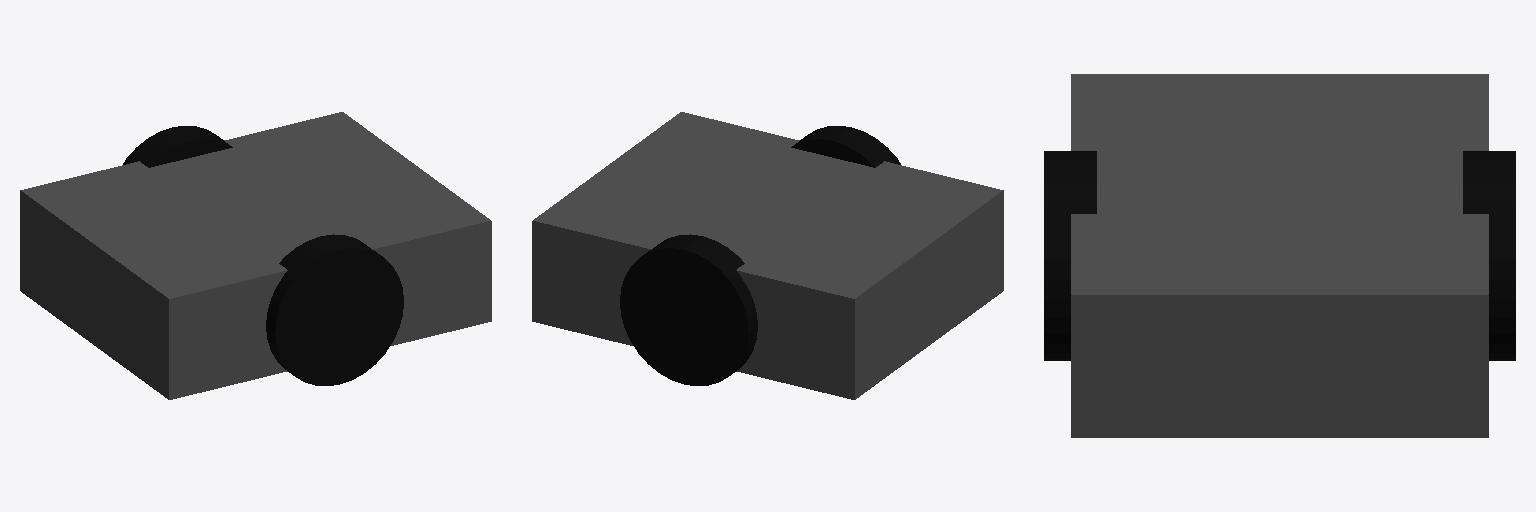
robot.urdf — test_robot:
<?xml version="1.0"?>
<!-- Starter URDF outline for a simple differential-drive robot.
		 Replace the example dimensions and inertial values with measured values. -->
<robot name="test_robot">
	<!-- Chassis -->
	<link name="base_link">
		<inertial>
			<origin xyz="0 0 0.10" rpy="0 0 0"/>
			<mass value="10.0"/>
			<inertia ixx="0.20" ixy="0" ixz="0" iyy="0.30" iyz="0" izz="0.40"/>
		</inertial>
		<visual>
			<origin xyz="0 0 0.10" rpy="0 0 0"/>
			<geometry><box size="0.50 0.40 0.15"/></geometry>
			<material name="chassis"><color rgba="0.35 0.35 0.35 1"/></material>
		</visual>
		<collision>
			<origin xyz="0 0 0.10" rpy="0 0 0"/>
			<geometry><box size="0.50 0.40 0.15"/></geometry>
		</collision>
	</link>

	<!-- Left drive wheel -->
	<link name="left_wheel">
		<inertial>
			<mass value="1.0"/>
			<inertia ixx="0.006" ixy="0" ixz="0" iyy="0.003" iyz="0" izz="0.006"/>
		</inertial>
		<visual>
			<origin xyz="0 0 0" rpy="1.5708 0 0"/>
			<geometry><cylinder radius="0.10" length="0.05"/></geometry>
			<material name="wheel"><color rgba="0.08 0.08 0.08 1"/></material>
		</visual>
		<collision>
			<origin xyz="0 0 0" rpy="1.5708 0 0"/>
			<geometry><cylinder radius="0.10" length="0.05"/></geometry>
		</collision>
	</link>
	<joint name="left_wheel_joint" type="continuous">
		<parent link="base_link"/>
		<child link="left_wheel"/>
		<origin xyz="0 0.20 0.10" rpy="0 0 0"/>
		<axis xyz="0 1 0"/>
		<limit effort="20" velocity="10"/>
	</joint>

	<!-- Right drive wheel -->
	<link name="right_wheel">
		<inertial>
			<mass value="1.0"/>
			<inertia ixx="0.006" ixy="0" ixz="0" iyy="0.003" iyz="0" izz="0.006"/>
		</inertial>
		<visual>
			<origin xyz="0 0 0" rpy="1.5708 0 0"/>
			<geometry><cylinder radius="0.10" length="0.05"/></geometry>
			<material name="wheel"/>
		</visual>
		<collision>
			<origin xyz="0 0 0" rpy="1.5708 0 0"/>
			<geometry><cylinder radius="0.10" length="0.05"/></geometry>
		</collision>
	</link>
	<joint name="right_wheel_joint" type="continuous">
		<parent link="base_link"/>
		<child link="right_wheel"/>
		<origin xyz="0 -0.20 0.10" rpy="0 0 0"/>
		<axis xyz="0 1 0"/>
		<limit effort="20" velocity="10"/>
	</joint>

	<!-- Add support casters, sensors, and Gazebo plugins here as needed. -->



    <!--this comment will serve as a plan for future aspects of the project.
        - in the future we need to add more tags to our robot to account to aspects of it's design. 

        1) we need to add lidar sensors to the URDF for proper navigation and mapping.
        2) we need to add the back two dumb wheels to the URDF file to model our design
        3) we need to properly model the correct dimensions of the robot in the URDF file to match our design.
        4) we need to account for the internal components of the robot in the URDF file to properly model the robot's weight and center of mass
        5) we need to make sure the URDF file is compatible with Gazebo and ROS 2 jazzy to ensure proper simulation and control of the robot.
        6) we need to add the proper Gazebo plugins to the URDF file to ensure proper simulation and control of the robot.
        7) we need to add the proper ROS 2 control tags to the URDF file to ensure proper simulation and control of the robot.
        8) we need to add the proper ROS 2 navigation tags to the URDF file to ensure proper simulation and control of the robot.
        9) we need to add the proper ROS 2 mapping tags to the URDF file to ensure proper simulation and control of the robot.
        10) we need to add the proper ROS 2 visualization tags to the URDF file to ensure proper simulation and control of the robot.
        11) we need to add the proper ROS 2 communication tags to the URDF file to ensure proper simulation and control of the robot.
        12) We need to make sure a NAV 2 stack is properly implemented in the URDF file to ensure proper simulation and control of the robot.
        13) We need to make sure a SLAM 2 stack is properly implemented in the URDF file to ensure proper simulation and control of the robot.
        14) have fun




        -Claude wants me to install these packages but im not sure if i already have them or they are compatible with previous stuff we did with wudy
        sudo apt install ros-jazzy-ros-gz ros-jazzy-teleop-twist-keyboard ros-jazzy-xacro' Specifically, the xarco is throwing me off
        -test code to try once i make sure everything is compatible with Gazebo and ROS 2 jazzy. it just imports the downloaded packages and lets them communicate with stuff. I have to enure two things first

        1) is this implementing with what we need it to
        2) i need to add the proper tags to match up to our project since this file is just a template of a very basic robot

        <gazebo>
        <plugin filename="gz-sim-diff-drive-system" name="gz::sim::systems::DiffDrive">
            <left_joint>left_wheel_joint</left_joint>
            <right_joint>right_wheel_joint</right_joint>
            <wheel_separation>0.4</wheel_separation>
            <wheel_radius>0.1</wheel_radius>
            <topic>cmd_vel</topic>
            <odom_topic>odom</odom_topic>
            <frame_id>odom</frame_id>
            <child_frame_id>base_link</child_frame_id>
        </plugin>
        <plugin filename="gz-sim-joint-state-publisher-system"
                name="gz::sim::systems::JointStatePublisher">
            <topic>joint_states</topic>
        </plugin>
        </gazebo>
    -->


















</robot>

--- Facts derived from the render (not from the file) ---
3 views of the same robot in one strip: view 1: azimuth 30°, elevation 25°; view 2: azimuth 150°, elevation 25°; view 3: azimuth 270°, elevation 25° (orthographic).
Model test_robot with 3 links and 2 joints (2 continuous), rooted at base_link, posed every joint at zero.
Links seen in each view (by area): view 1: base_link, right_wheel, left_wheel; view 2: base_link, left_wheel, right_wheel; view 3: base_link, left_wheel, right_wheel.
Boxes of the visible links, left/top/right/bottom form: base_link: left=20, top=112, right=491, bottom=399; right_wheel: left=266, top=234, right=403, bottom=385; left_wheel: left=123, top=126, right=232, bottom=167; base_link: left=532, top=112, right=1003, bottom=399; left_wheel: left=620, top=234, right=757, bottom=385; right_wheel: left=791, top=126, right=900, bottom=167; base_link: left=1071, top=74, right=1488, bottom=437; left_wheel: left=1463, top=151, right=1515, bottom=360; right_wheel: left=1044, top=151, right=1096, bottom=360.
Size in the robot's own frame: 0.5 by 0.45 by 0.2 metres.
Geometry: primitives only (box / cylinder / sphere), no mesh files.
